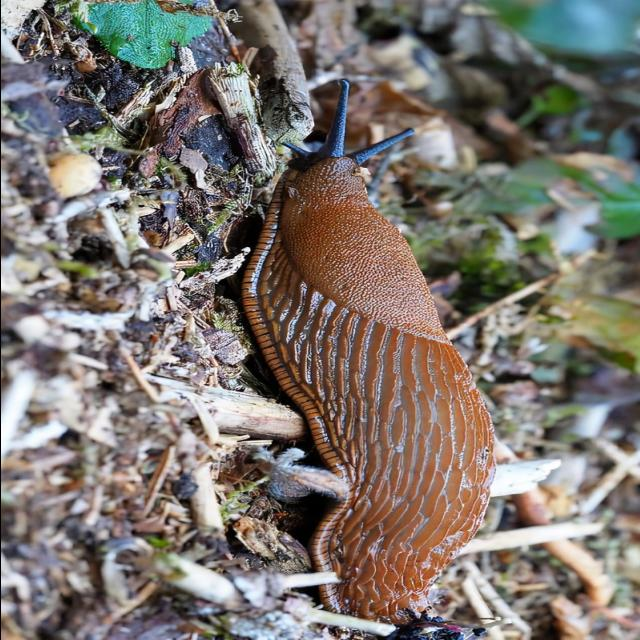slug: (236, 78, 504, 622)
